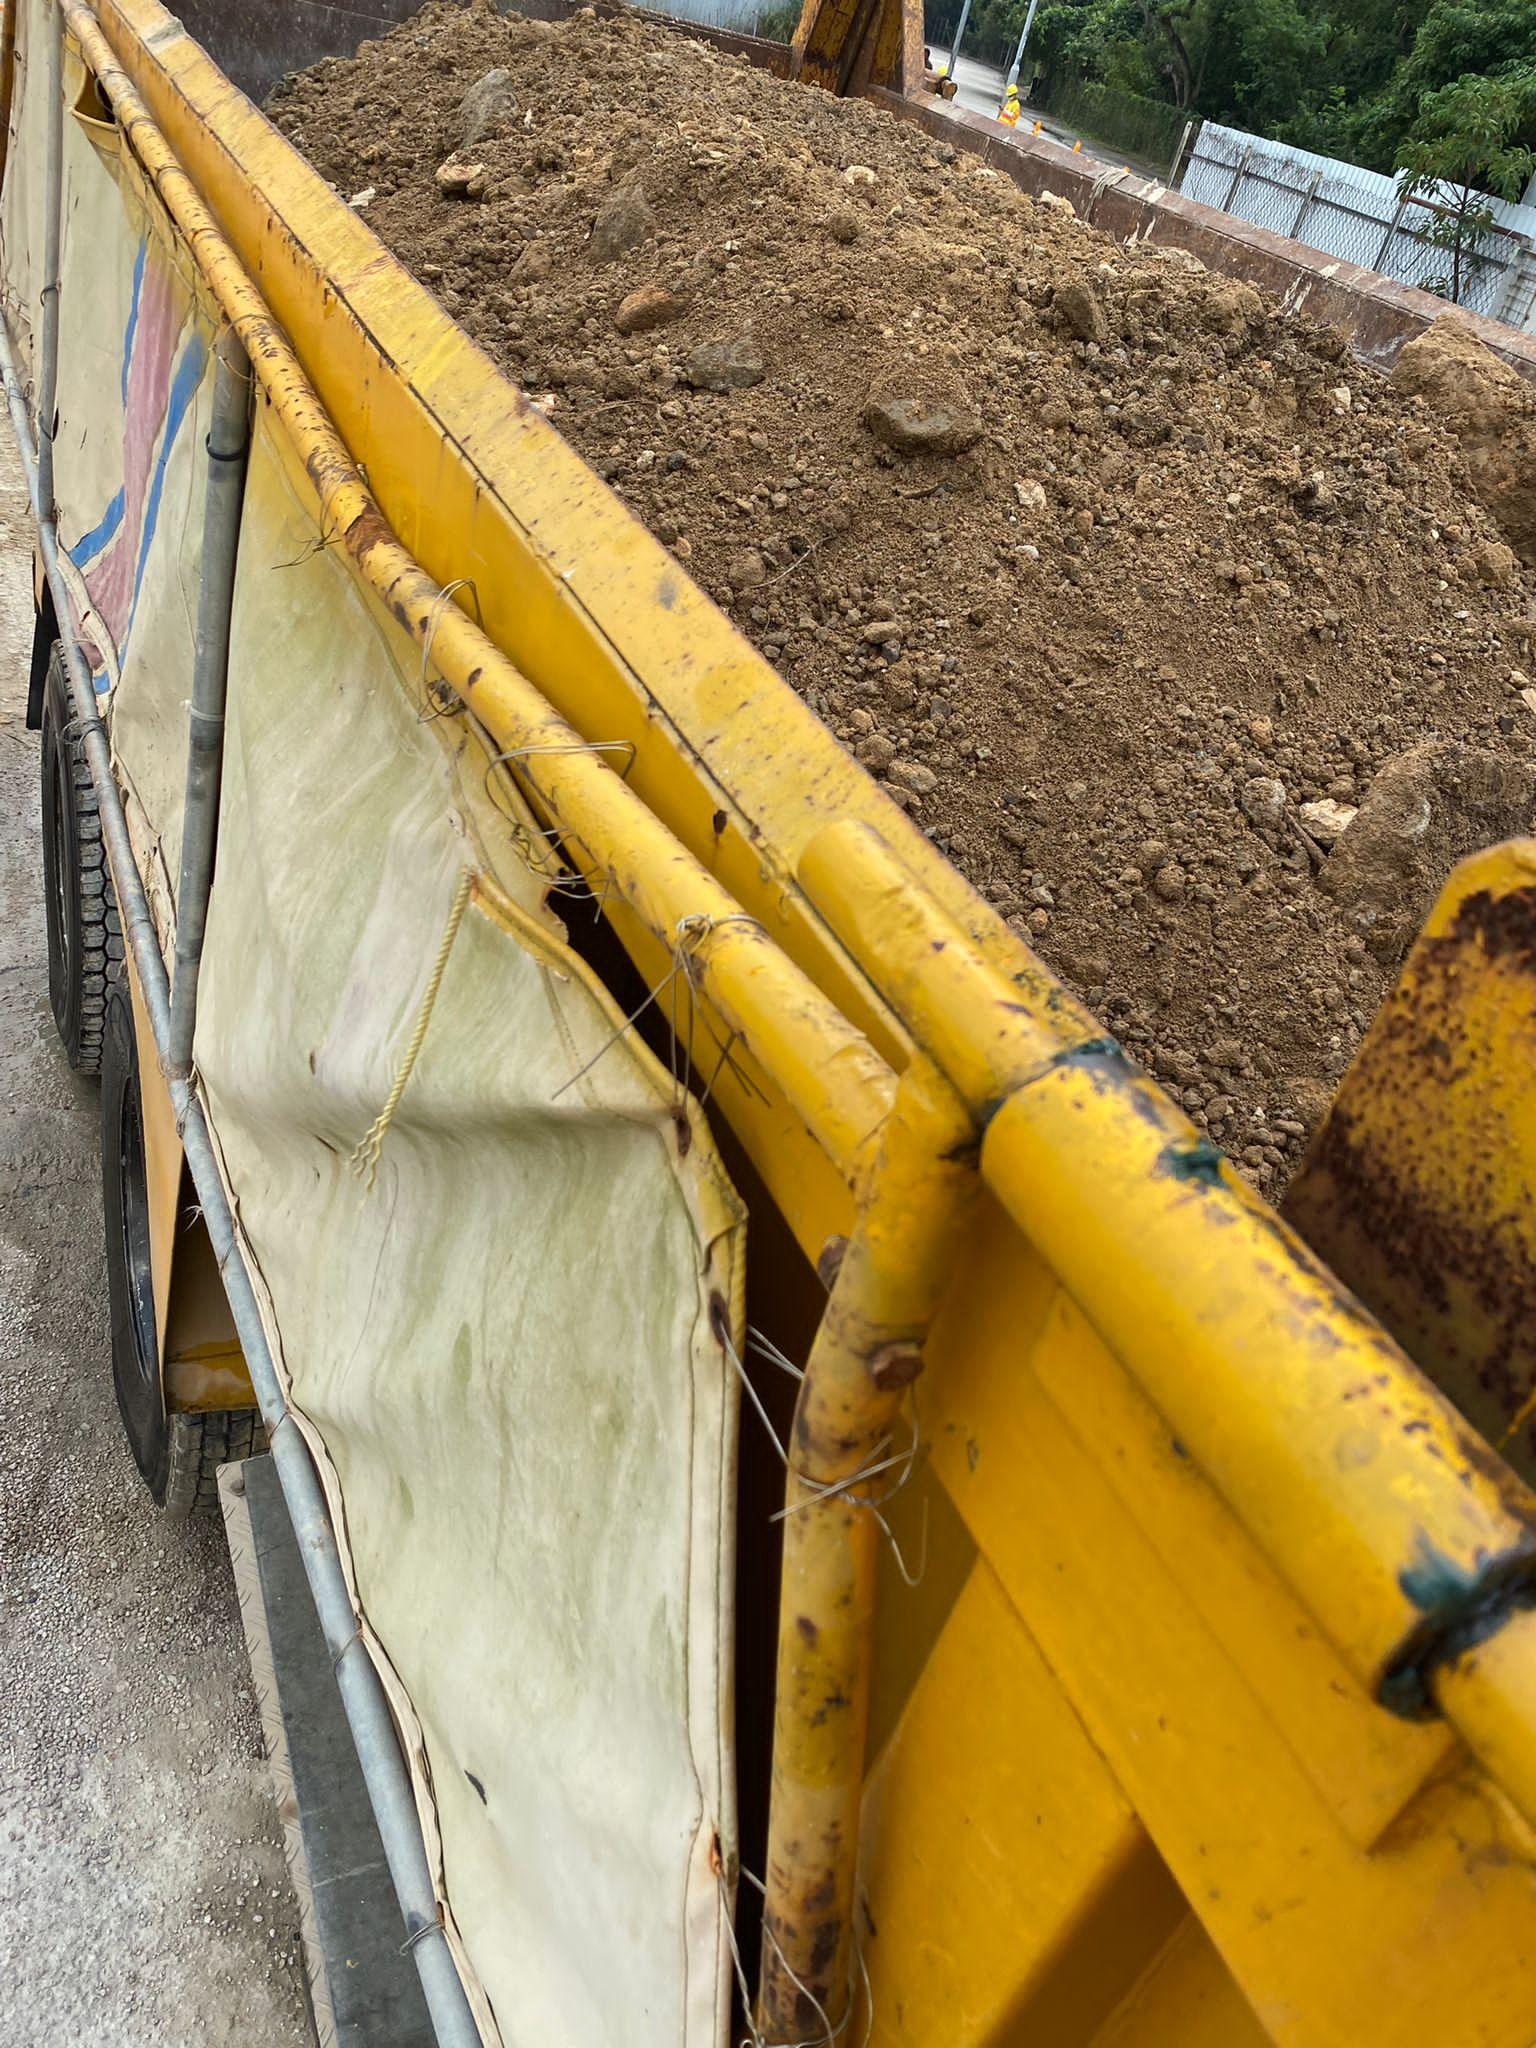wet: (260, 23, 1517, 1180)
